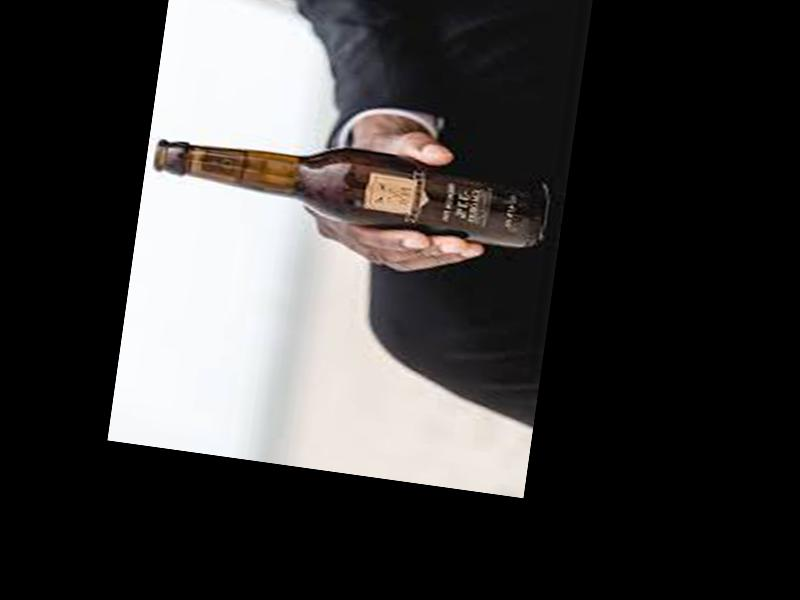Beer: (149, 124, 552, 252)
